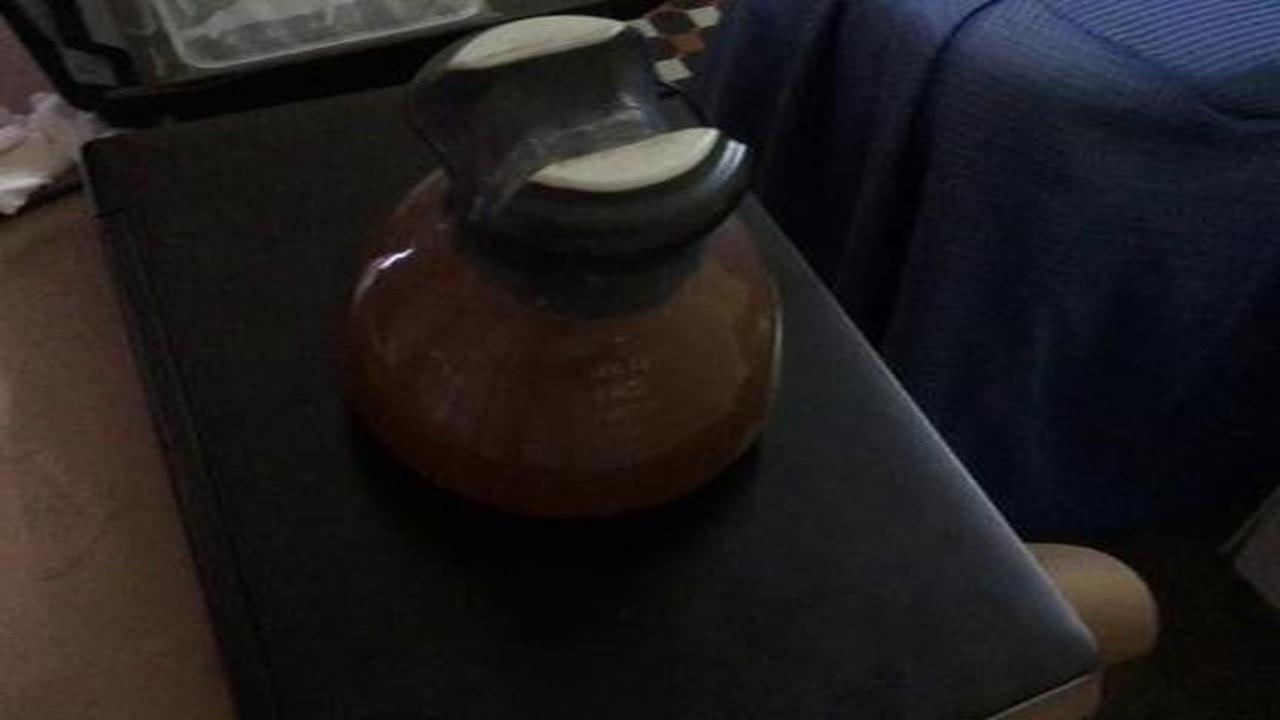insulator_pin: (319, 7, 788, 523)
